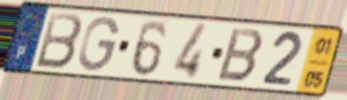2: (259, 29, 304, 91)
4: (169, 21, 210, 83)
6: (131, 19, 170, 79)
B: (33, 10, 85, 71), (215, 26, 267, 85)
G: (77, 15, 121, 74)
